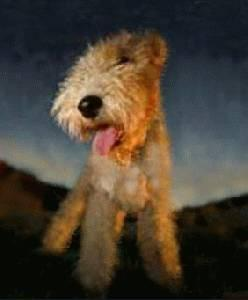wire-haired_fox_terrier: (39, 27, 183, 294)
